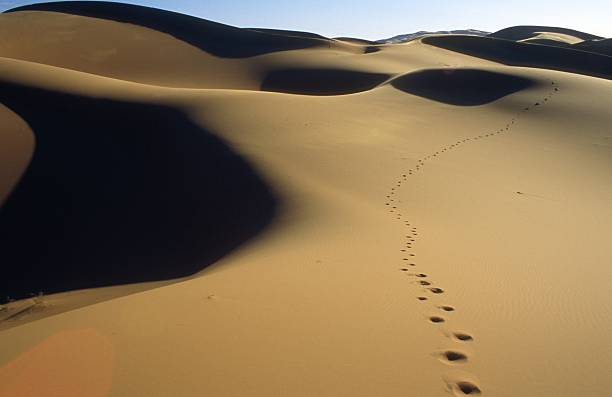animal_footprint: (385, 82, 558, 294), (439, 349, 467, 362), (452, 331, 473, 341), (429, 315, 444, 323), (439, 305, 454, 311), (429, 287, 443, 293)
